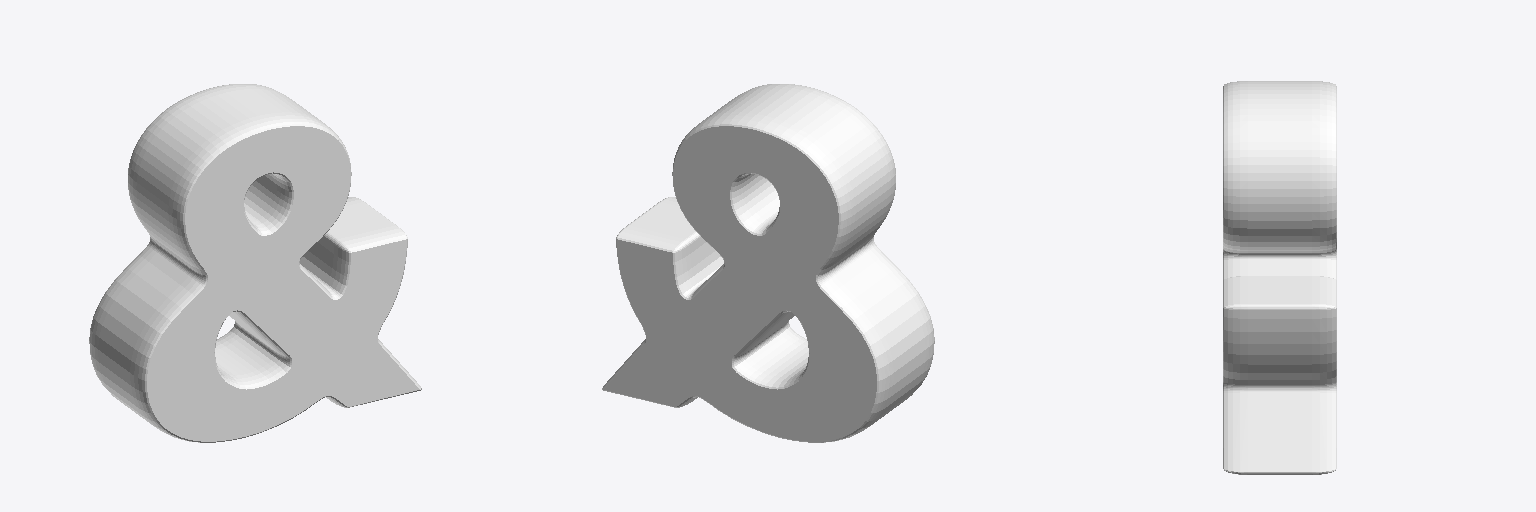
The model's file is TestObj.obj.
3 views of the same model, side by side, from view 1: azimuth 30°, elevation 25°; view 2: azimuth 150°, elevation 25°; view 3: azimuth 270°, elevation 25° (orthographic).
Parts seen in each view (by area): view 1: node_id379_mesh_id002; view 2: node_id379_mesh_id002; view 3: node_id379_mesh_id002.
Part boxes in pixels (x1,y1,x2,y2): node_id379_mesh_id002: (89, 84, 421, 442); node_id379_mesh_id002: (602, 84, 934, 442); node_id379_mesh_id002: (1223, 81, 1336, 474).
Size of the model in its own units: 0.6136 by 0.6408 by 0.2127.